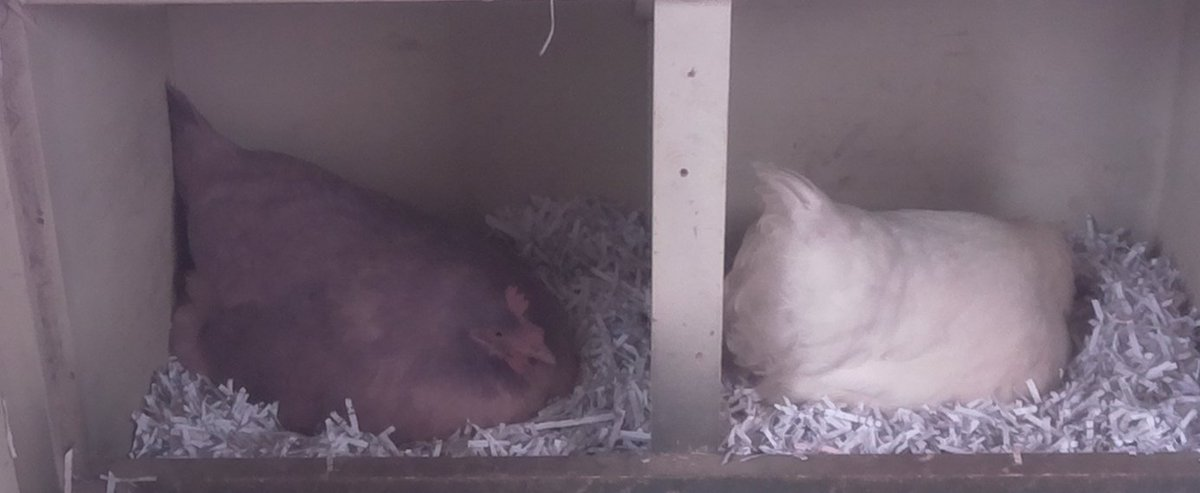hen: (165, 110, 591, 448), (730, 165, 1101, 424)
